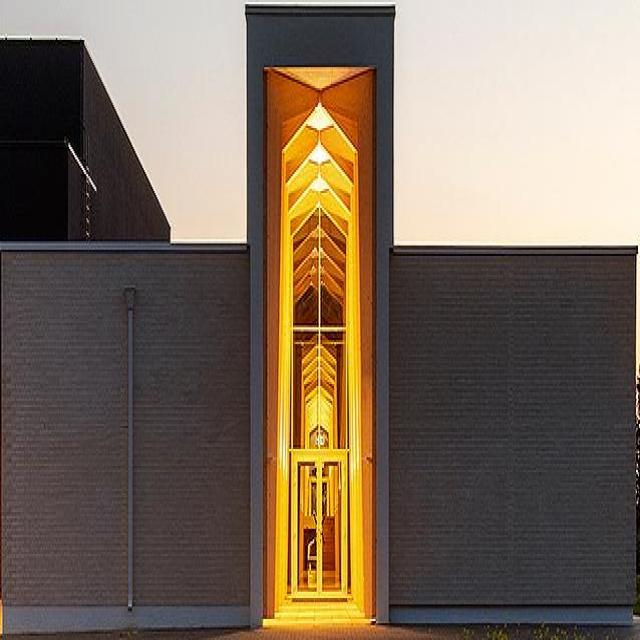door: (290, 452, 351, 606)
wall: (2, 9, 636, 632)
windows: (292, 212, 353, 451)
